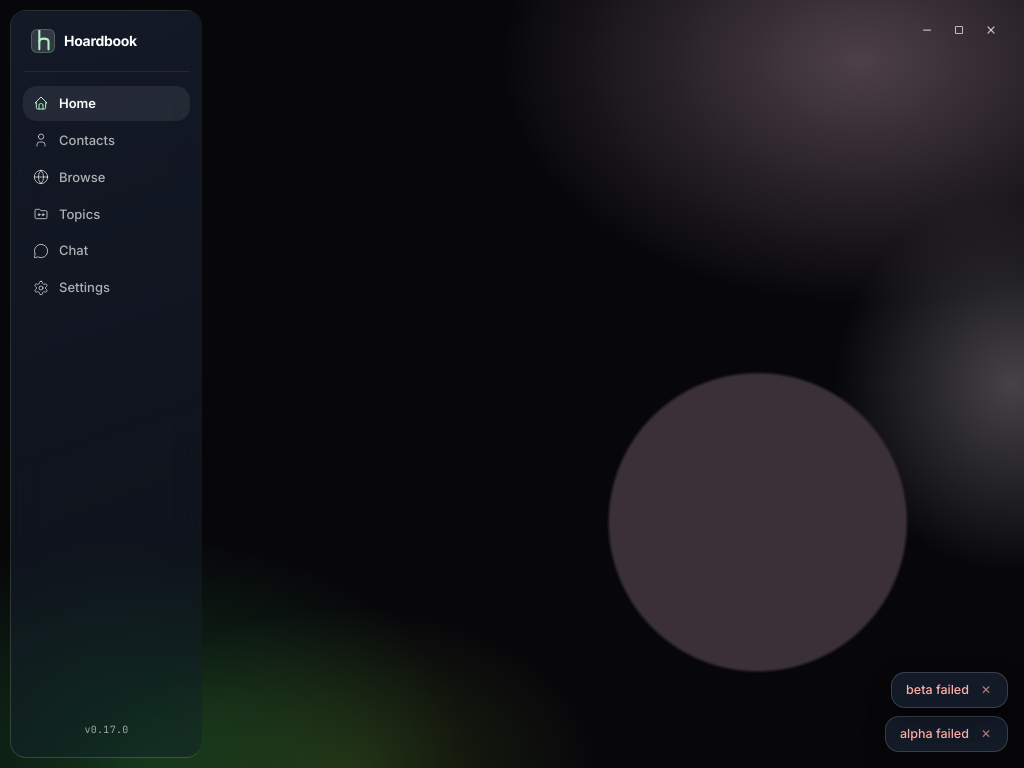
Test case: the layout renders the stack (QURATOR-379) › each stacked error carries role=alert and its own ✕, and a ✕ removes only its own toast
Expected: the number of messages is 2, 885,716 -> 1008,752; 891,672 -> 1008,708
Click the button named "Dismiss" at (986, 690), box 979,681 -> 993,698
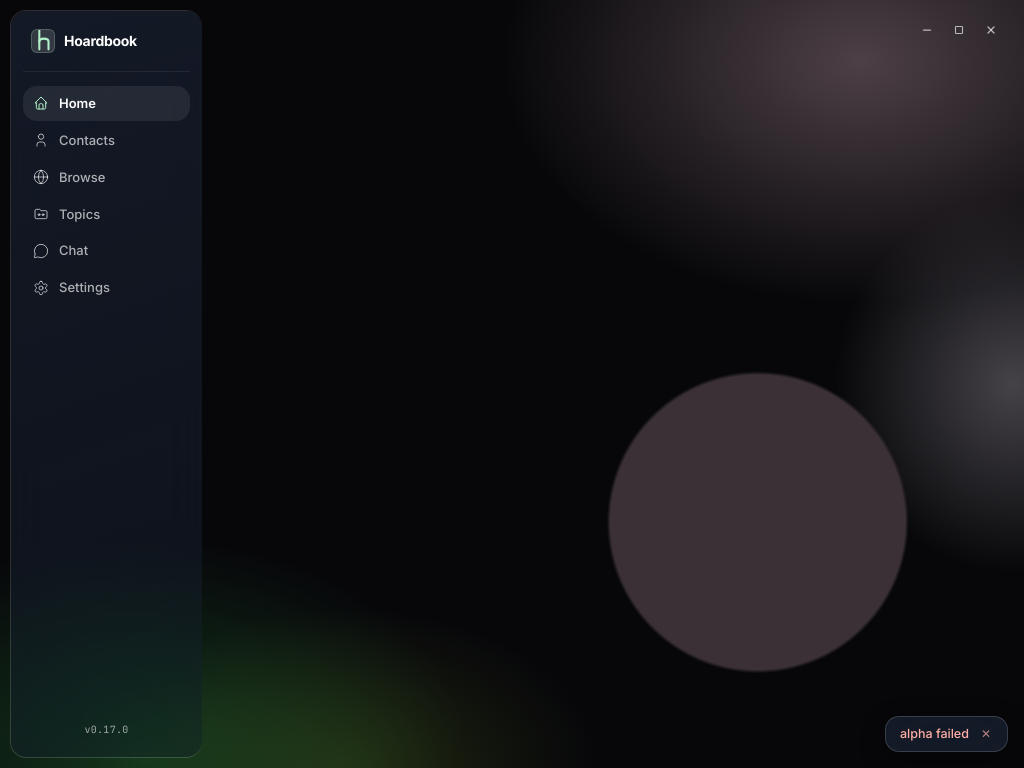
Expected: the text "alpha failed" is shown, 900,725 -> 969,743
Result: the text "beta failed" is gone
